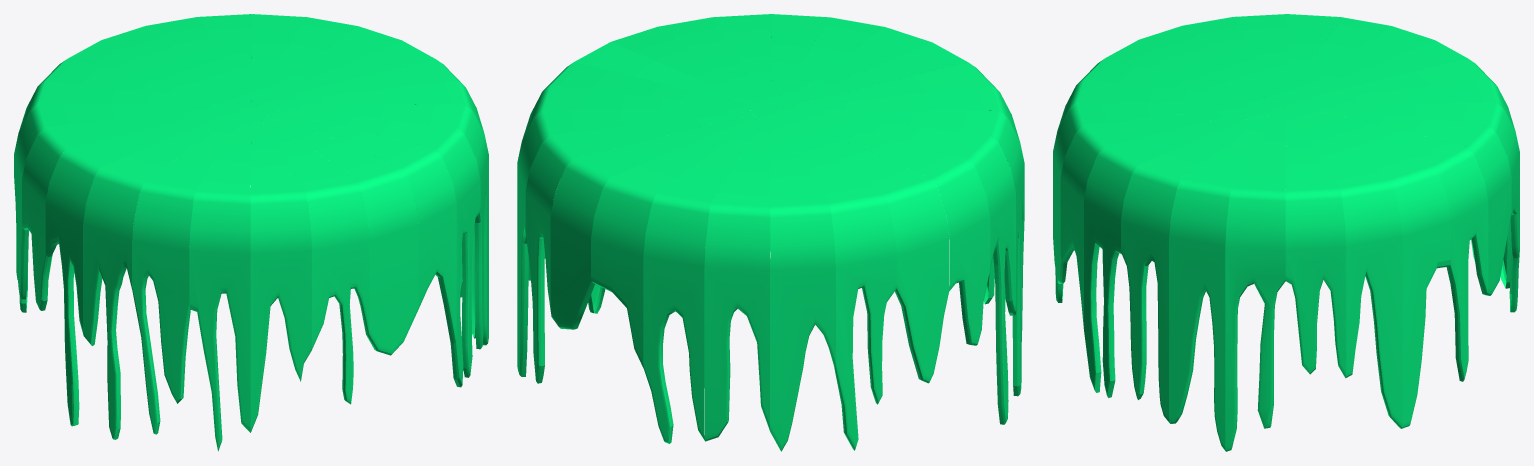
Rendered from Ara_Katman_03_Pivotlu.fbx.
3 views of the same model, side by side, from view 1: azimuth 30°, elevation 25°; view 2: azimuth 150°, elevation 25°; view 3: azimuth 270°, elevation 25° (orthographic). The views are drawn at different scales.
Visible parts, largest first — view 1: p99, p24, p85, p83, p84, p98, p97, p82, p81, p96, p80, p95 (+12 smaller); view 2: p93, p92, p91, p94, p95, p90, p89, p96, p97, p88, p87, p98 (+12 smaller); view 3: p79, p77, p78, p76, p80, p87, p81, p88, p82, p89, p83, p90 (+12 smaller).
Part boxes in pixels (x1,y1,x2,y2): p99: [189, 104, 251, 451]; p24: [132, 104, 250, 434]; p85: [250, 104, 311, 432]; p83: [252, 104, 418, 355]; p84: [252, 104, 369, 404]; p98: [83, 104, 250, 439]; p97: [45, 104, 250, 426]; p82: [252, 104, 456, 343]; p81: [252, 104, 480, 387]; p96: [22, 104, 250, 310]; p80: [253, 104, 488, 349]; p95: [14, 103, 249, 299]; p93: [770, 111, 835, 451]; p92: [704, 110, 770, 441]; p91: [643, 110, 770, 443]; p94: [771, 110, 896, 450]; p95: [772, 111, 949, 383]; p90: [591, 110, 769, 367]; p89: [550, 110, 769, 329]; p96: [772, 110, 990, 345]; p97: [772, 110, 1015, 424]; p88: [525, 110, 769, 383]; p87: [517, 110, 767, 376]; p98: [774, 110, 1024, 396]; p79: [1169, 103, 1285, 451]; p77: [1287, 103, 1402, 428]; p78: [1225, 103, 1286, 451]; p76: [1285, 103, 1346, 377]; p80: [1121, 103, 1285, 422]; p87: [1287, 103, 1450, 428]; p81: [1084, 103, 1284, 397]; p88: [1287, 102, 1488, 381]; p82: [1060, 102, 1284, 328]; p89: [1288, 102, 1511, 295]; p83: [1053, 102, 1285, 283]; p90: [1287, 102, 1519, 258].
Bounding box in the file's own units: 1.67 × 1.01 × 1.67.
